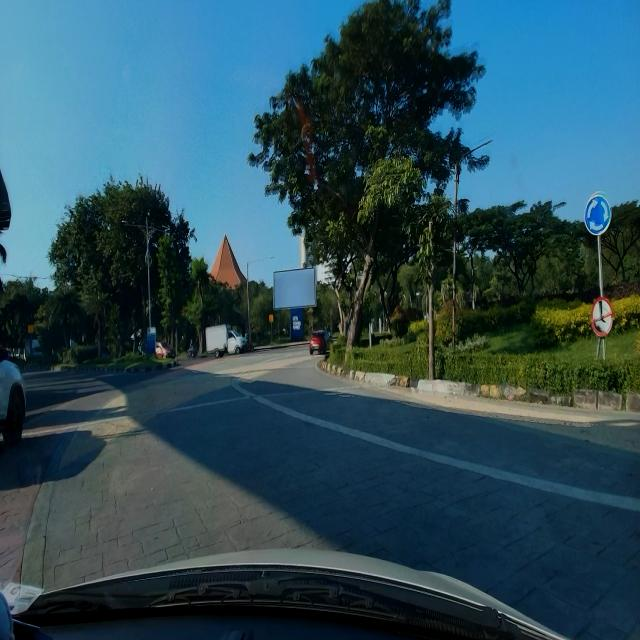car: (309, 329, 333, 356)
